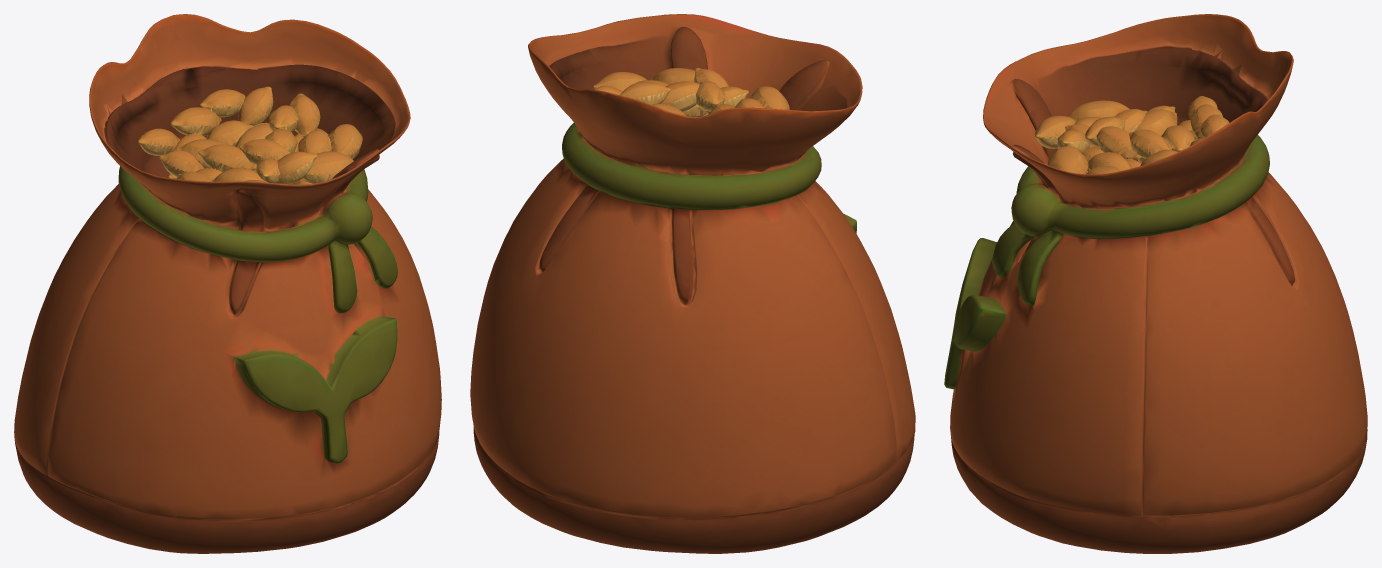
Rendered from seedbag.glb.
The picture shows the model from 3 angles, left to right: view 1: azimuth 30°, elevation 25°; view 2: azimuth 150°, elevation 25°; view 3: azimuth 270°, elevation 25°; orthographic projection. The views are drawn at different scales.
Visible parts, largest first — view 1: almond nuts 3d model.002; view 2: almond nuts 3d model.002; view 3: almond nuts 3d model.002.
Boxes of the visible parts, <box> form: almond nuts 3d model.002: <box>14,14,441,553</box>; almond nuts 3d model.002: <box>470,14,915,553</box>; almond nuts 3d model.002: <box>944,14,1367,553</box>.
Size of the model in its own units: 0.0448 by 0.0467 by 0.0424.
Materials: 2 (2 with a texture image).
